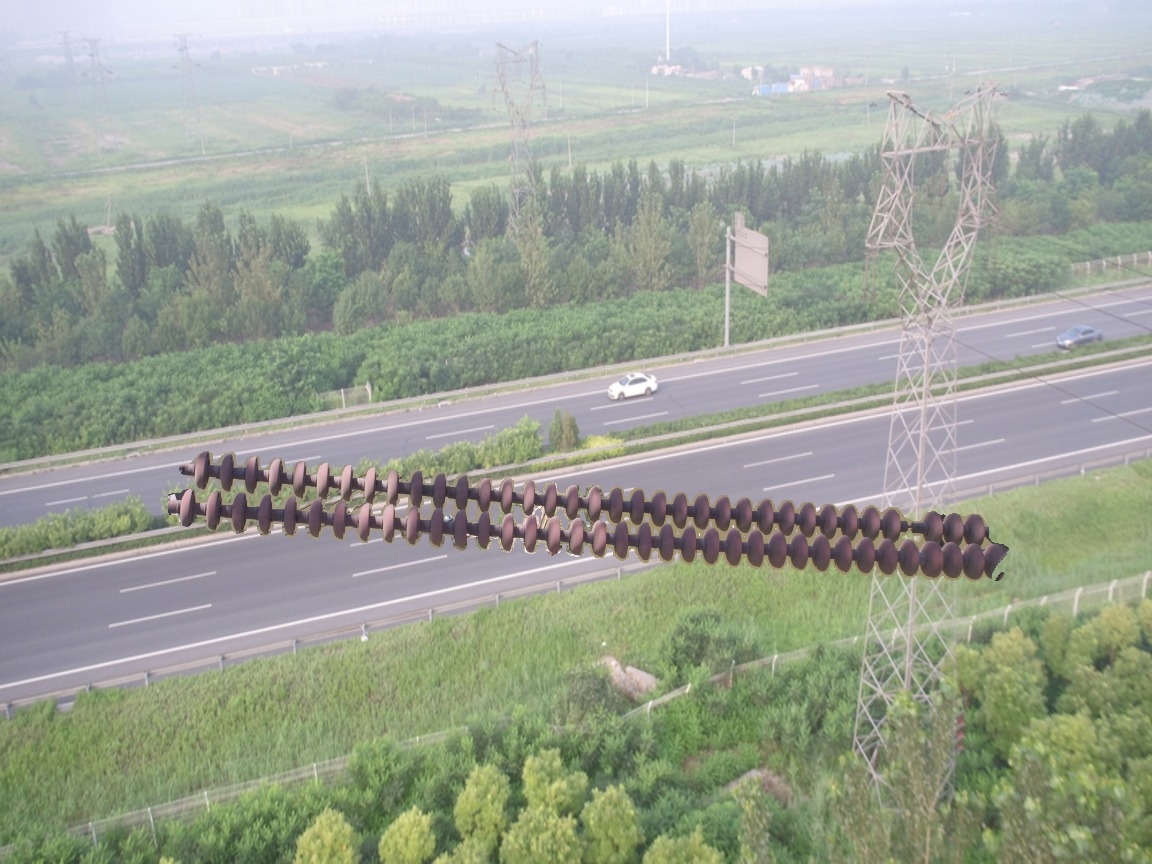defect: (879, 507, 946, 546)
